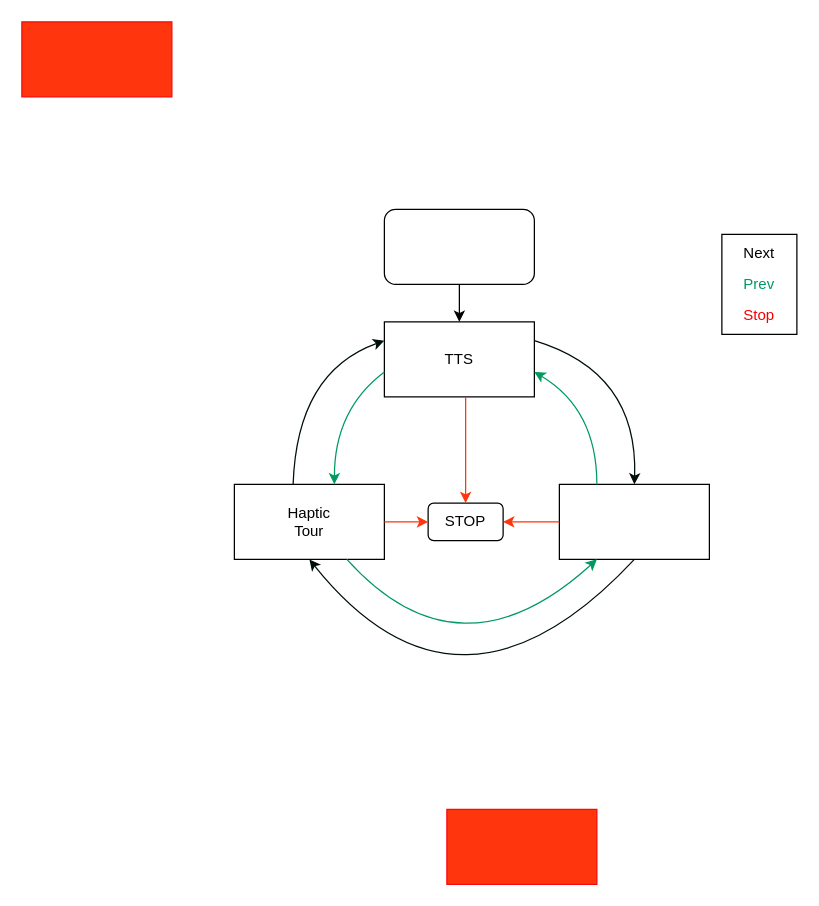
Some shapes in this 819 by 906 pixel diagram are drawn without their labels. The shapes that lost their labels are listed below. From the top down, each one's centre as x and y in pixels, then its label:
At (x=458, y=246): "START".
At (x=633, y=521): "Sonification".
